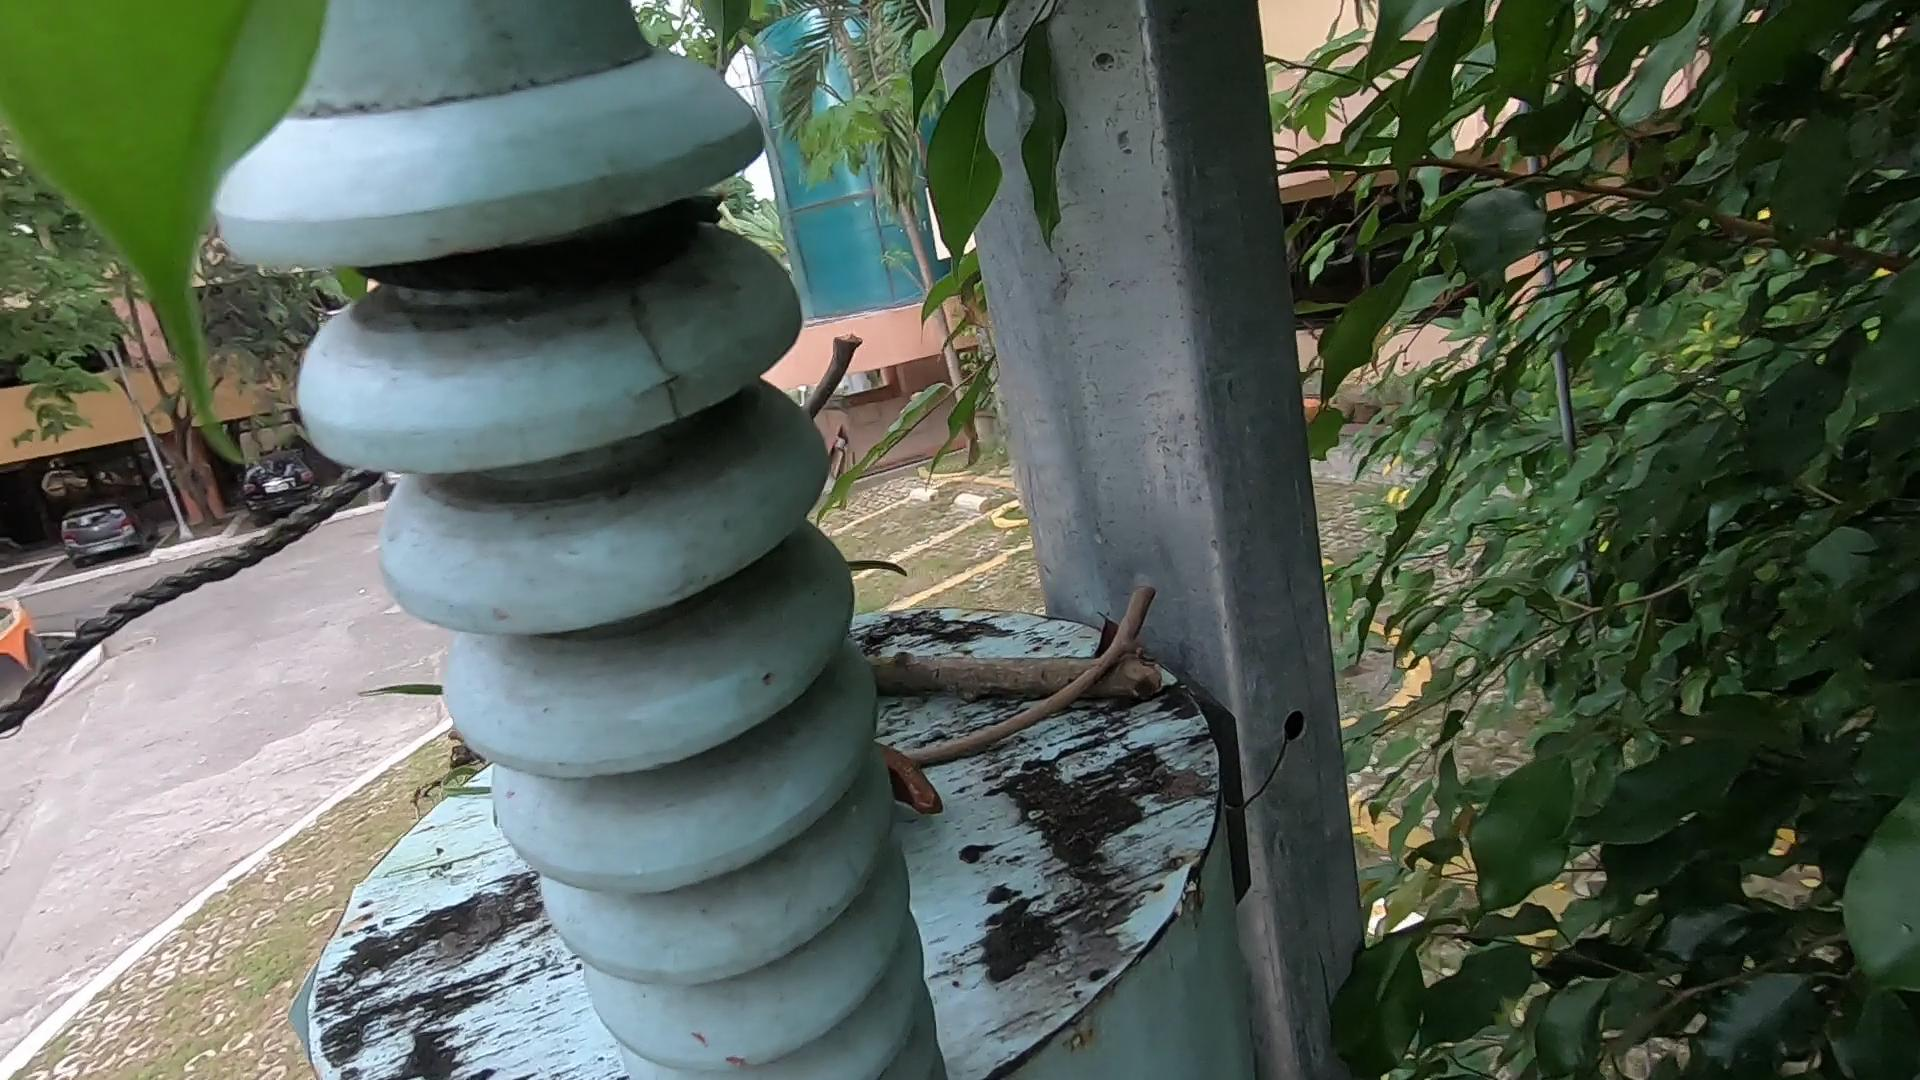branch with leaves: (397, 628, 1247, 748)
mahogany fruit: (824, 715, 968, 840)
tree branch: (910, 574, 1164, 786), (746, 291, 878, 455)
